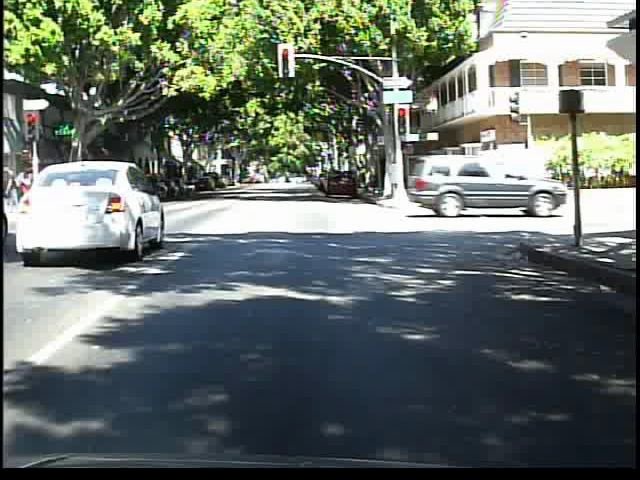person: (1, 157, 35, 212)
